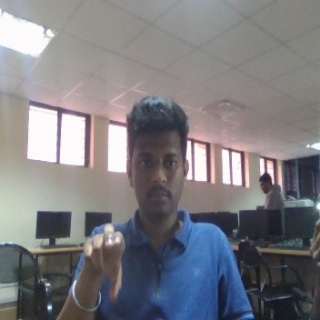Face: (125, 94, 190, 226)
No: (81, 220, 127, 302)
